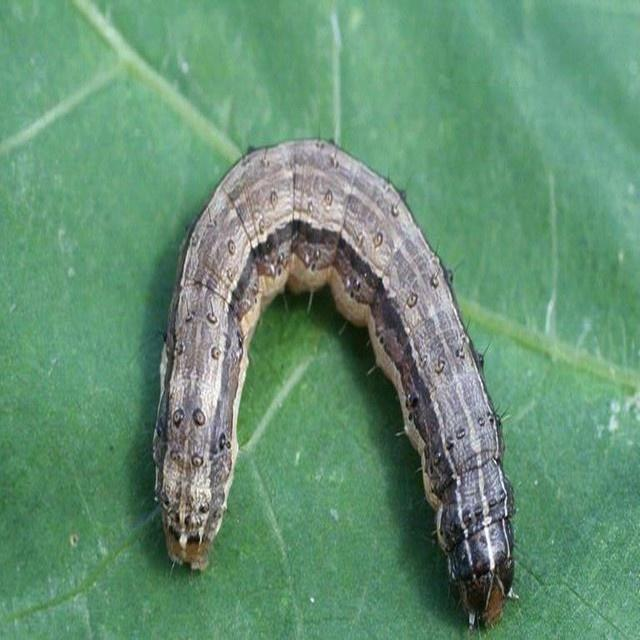gusano_cogollero: (149, 137, 519, 629)
